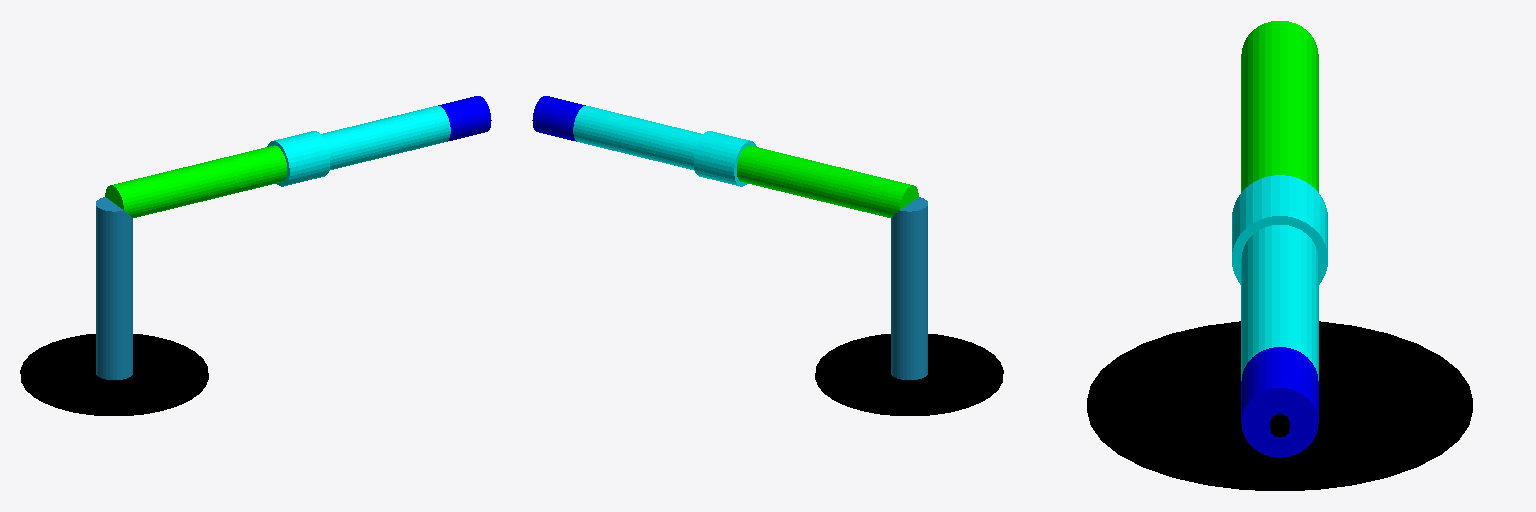
URDF robot description (simple_robot):
<robot name="simple_robot"> <!-- robot name- you decide -->
	<!-- sequence : link-joint-link-joint-...-link... -->
	<!-- units: meters for distance,rad in case of angles -->
	<!-- first link called base_link -->
	<link name= "base_link">
		<visual>
			<geometry>
				<cylinder length="0.01" radius="0.2"/>
			</geometry>
			<origin rpy="0 0 0" xyz="0 0 0"/> <!-- rpy: roll pitch yaw -> orientation xyz -> position --> 
			<material name= "base_color">
				<color rgba="0 0 0 1"/> 
			</material>
		</visual>
	
	</link>
	<!-- first joint-->
	<joint name="joint1" type= "revolute"> <!-- types: revolute and prismatic -->
		<parent link="base_link"/>
		<child link="link1"/>
		<origin xyz ="0 0 0"/>
		<axis xyz="0 0 1"/>
		<limit effort="300" velocity="0.1" lower="-3.14159" upper="3.14159"/>
		<dynamics damping="50" friction="1"/>
	
	</joint>
	<!-- link1-->
	<link name= "link1">
		<visual>
			<geometry>
				<cylinder length="0.4" radius="0.04"/>
			</geometry>
			<origin rpy="0 0 0" xyz="0 0 0.2"/> <!-- rpy: roll pitch yaw -> orientation xyz -> position --> 
			<material name= "link1_color">
				<color rgba="0.145 0.588 0.745 1"/> 
			</material>
		</visual>
	
	</link>
	
	<!-- second joint-->
	<joint name="joint2" type= "revolute"> <!-- types: revolute and prismatic -->
		<parent link="link1"/>
		<child link="link2"/>
		<origin xyz ="0 0 0.4"/> <!-- related to joint 1-->
		<axis xyz="0 -1 0"/>
		<limit effort="300" velocity="0.1" lower="-3.14159" upper="3.14159"/>
		<dynamics damping="50" friction="1"/>
	
	</joint>
	<!-- link2-->
	<link name= "link2">
		<visual>
			<geometry>
				<cylinder length="0.4" radius="0.04"/>
			</geometry>
			<origin rpy="0 1.5707 0" xyz="0.2 0 0"/> <!-- rpy: roll pitch yaw -> orientation xyz -> position --> 
			<material name= "link2_color">
				<color rgba="0 1 0 1"/> 
			</material>
		</visual>
	
	</link>
	
	<!-- third joint-->
	<joint name="joint3" type= "revolute"> <!-- types: revolute and prismatic -->
		<parent link="link2"/>
		<child link="link3"/>
		<origin xyz ="0.4 0 0"/> <!-- related to joint 2-->
		<axis xyz="0 -1 0"/>
		<limit effort="300" velocity="0.1" lower="-3.14159" upper="3.14159"/>
		<dynamics damping="50" friction="1"/>
	
	</joint>
	<!-- link3-->
	<link name= "link3">
		<visual>
			<geometry>
				<cylinder length="0.1" radius="0.05"/>
			</geometry>
			<origin rpy="0 1.5707 0" xyz="0.05 0 0"/> <!-- rpy: roll pitch yaw -> orientation xyz -> position --> 
			<material name= "link3_color">
				<color rgba="0 1 1 1"/> 
			</material>
		</visual>
	
	</link>
	
	<!-- fourth joint-->
	<joint name="joint4" type= "fixed"> <!-- types: fixed and prismatic -->
		<parent link="link3"/>
		<child link="link4"/>
		<origin xyz ="0.1 0 0"/> <!-- related to joint 3-->
		<axis xyz="-1 0 0"/>
		<limit effort="300" velocity="0.1" lower="-3.14159" upper="3.14159"/>
		<dynamics damping="50" friction="1"/>
	
	</joint>
	<!-- link4-->
	<link name= "link4">
		<visual>
			<geometry>
				<cylinder length="0.3" radius="0.04"/>
			</geometry>
			<origin rpy="0 1.5707 0" xyz="0.15 0 0"/> <!-- rpy: roll pitch yaw -> orientation xyz -> position --> 
			<material name= "link4_color">
				<color rgba="0 1 1 1"/> 
			</material>
		</visual>
	
	</link>
	
	<!-- fifth joint-->
	<joint name="joint5" type= "fixed"> <!-- types: fixed and prismatic -->
		<parent link="link4"/>
		<child link="link5"/>
		<origin xyz ="0.3 0 0"/> <!-- related to joint 4-->
		<axis xyz="0 1 0"/>
		<limit effort="300" velocity="0.1" lower="-3.14159" upper="3.14159"/>
		<dynamics damping="50" friction="1"/>
	
	</joint>
	<!-- link5-->
	<link name= "link5">
		<visual>
			<geometry>
				<cylinder length="0.1" radius="0.04"/>
			</geometry>
			<origin rpy="0 1.5707 0" xyz="0.05 0 0"/> <!-- rpy: roll pitch yaw -> orientation xyz -> position --> 
			<material name= "link5_color">
				<color rgba="0 0 1 1"/> 
			</material>
		</visual>
	</link>
	
	<!-- sixth joint-->
	<joint name="joint6" type= "fixed"> <!-- types: fixed and prismatic -->
		<parent link="link5"/>
		<child link="link6"/>
		<origin xyz ="0.1 0 0"/> <!-- related to joint 5-->
		<axis xyz="-1 0 0"/>
		<limit effort="300" velocity="0.1" lower="-3.14159" upper="3.14159"/>
		<dynamics damping="50" friction="1"/>
	
	</joint>
	<!-- link6-->
	<link name= "link6">
		<visual>
			<geometry>
				<cylinder radius="0.01" length="0.02"/>
				<!-- <box size="0.2 0.01 0.01"/> -->
			</geometry>
			<origin rpy="0 1.5707 0" xyz="0.005 0 0"/> <!-- rpy: roll pitch yaw -> orientation xyz -> position --> 
			<material name= "link6_color">
				<color rgba="0 0 0 1"/> 
			</material>
		</visual>
	</link>
	
	
	</robot>
	
	

--- Render facts (derived) ---
3 views of the same robot in one strip: view 1: azimuth 30°, elevation 25°; view 2: azimuth 150°, elevation 25°; view 3: azimuth 270°, elevation 25° (orthographic).
Model simple_robot with 7 links and 6 joints (3 revolute, 3 fixed), rooted at base_link, posed all joints at 0.
Links seen in each view (by area): view 1: base_link, link2, link1, link4, link3, link5; view 2: base_link, link2, link1, link4, link3, link5; view 3: base_link, link2, link4, link5, link3.
Boxes of the visible links, x1,y1,x2,y2 form: base_link: (20,334,208,415); link2: (105,145,286,217); link1: (96,197,132,379); link4: (321,106,450,170); link3: (267,131,330,186); link5: (438,96,491,141); base_link: (815,334,1003,415); link2: (737,145,918,217); link1: (891,197,927,379); link4: (573,106,702,170); link3: (693,131,756,186); link5: (532,96,585,141); base_link: (1087,321,1472,490); link2: (1241,21,1318,192); link4: (1241,225,1318,380); link5: (1241,347,1318,457); link3: (1232,175,1327,284).
Bounding box of the posed robot: 1.11 × 0.4 × 0.455 m (x, y, z).
Geometry: primitives only (box / cylinder / sphere), no mesh files.